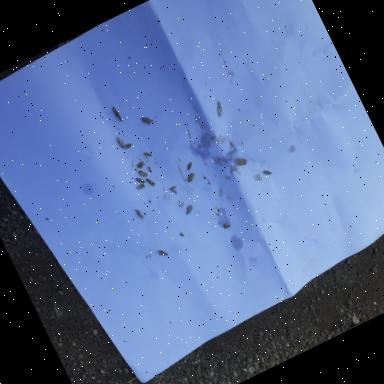pbw: (140, 112, 155, 128), (234, 154, 248, 168), (114, 134, 126, 150), (135, 174, 148, 188), (156, 246, 168, 260), (184, 171, 198, 183), (168, 183, 180, 195), (145, 175, 156, 188), (143, 150, 154, 162), (183, 203, 195, 214), (134, 207, 144, 220), (182, 162, 195, 172), (138, 167, 148, 179), (262, 168, 272, 178), (136, 159, 146, 169), (111, 106, 119, 118), (123, 142, 133, 150), (116, 110, 122, 122), (136, 183, 144, 191), (146, 165, 152, 173)
